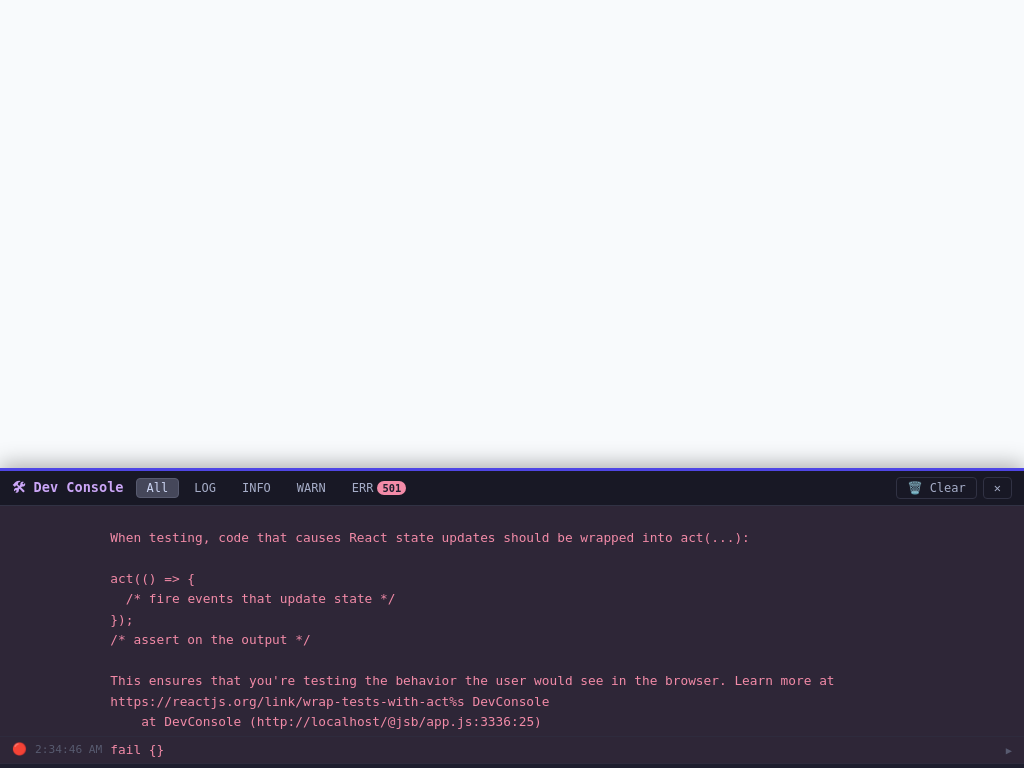
Test: DevConsole › expands error details when entry is clicked
(page scrolled)
expect the text "▶" is shown: met, box x1=1006 y1=742 x2=1012 y2=758
# Click the entry to expand
Click the button "🔴 2:34:46 AM fail {} ▶": {"x": 69, "y": 749} x1=0 y1=736 x2=1023 y2=764
(page scrolled)
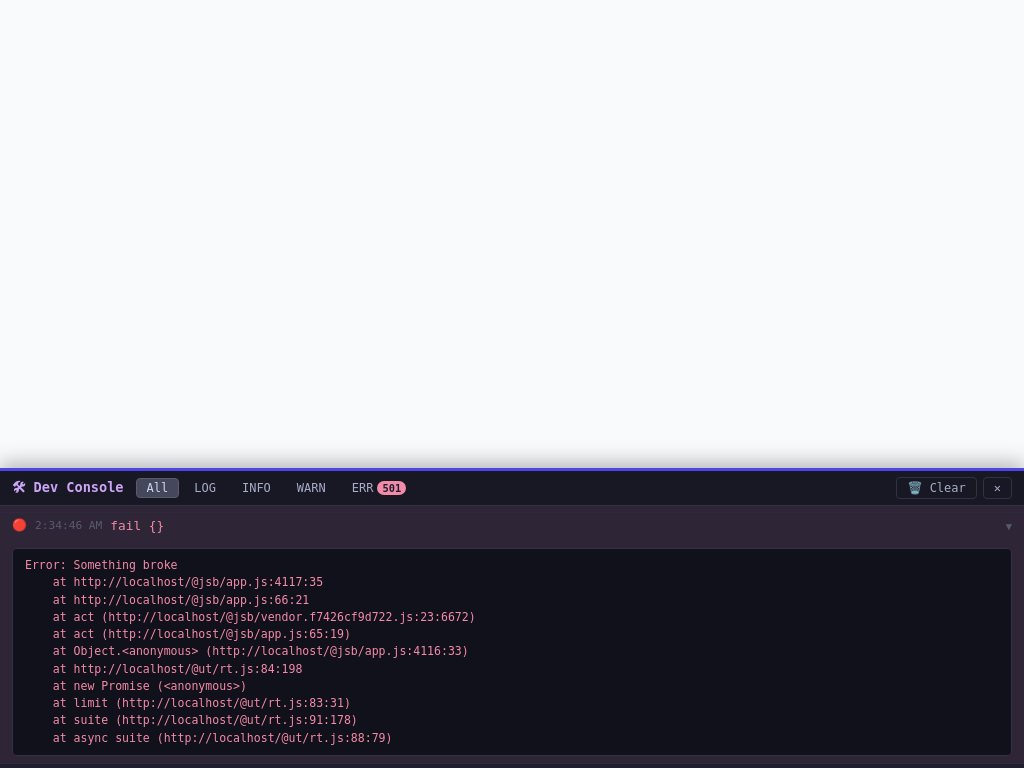
expect the text "▼" is shown: met, box x1=1006 y1=518 x2=1012 y2=534
expect the text "Something broke" is shown: met, box x1=25 y1=558 x2=476 y2=745
